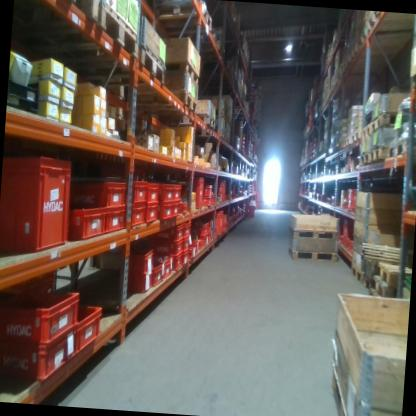pallet: (32, 0, 146, 68), (82, 41, 168, 95), (15, 0, 101, 33), (148, 0, 215, 38), (117, 90, 197, 121), (326, 368, 358, 416), (169, 112, 217, 138), (371, 108, 410, 135), (286, 248, 338, 267), (164, 59, 202, 84), (375, 259, 411, 285), (289, 225, 340, 243), (385, 136, 416, 164), (366, 276, 396, 303), (366, 11, 384, 33), (350, 263, 365, 287), (370, 144, 386, 166), (358, 150, 374, 171), (359, 121, 374, 140), (357, 28, 367, 55), (339, 58, 348, 87), (350, 128, 362, 148), (348, 44, 358, 68), (341, 135, 351, 150), (332, 79, 339, 96), (325, 88, 332, 105)
small_load_carrier: (0, 154, 77, 273), (0, 284, 81, 350), (0, 322, 79, 389), (72, 175, 131, 212), (66, 299, 104, 355), (71, 204, 108, 241), (124, 244, 155, 276), (124, 268, 156, 295), (104, 205, 127, 242), (149, 221, 184, 245), (153, 237, 185, 259), (185, 177, 206, 210), (156, 254, 177, 280), (129, 179, 149, 205), (151, 258, 168, 288), (130, 202, 148, 229), (145, 181, 161, 208), (209, 210, 224, 238), (157, 181, 175, 204), (188, 221, 209, 240), (144, 203, 160, 227), (160, 202, 175, 224), (341, 218, 351, 249), (170, 252, 184, 273), (220, 181, 229, 209), (172, 182, 185, 201), (351, 188, 359, 212), (187, 246, 196, 264), (188, 239, 199, 253), (179, 202, 190, 215), (183, 222, 191, 239), (203, 193, 212, 208), (203, 184, 213, 197), (171, 204, 180, 218), (182, 251, 190, 266), (183, 238, 191, 252), (196, 239, 204, 253), (229, 183, 236, 198), (247, 205, 255, 218), (221, 214, 229, 226), (211, 195, 218, 208), (207, 220, 213, 235), (347, 189, 353, 202), (215, 180, 223, 189), (350, 242, 356, 254), (221, 224, 228, 234), (345, 202, 352, 212), (216, 188, 222, 198), (345, 237, 349, 252), (206, 233, 211, 244), (203, 237, 207, 247)
